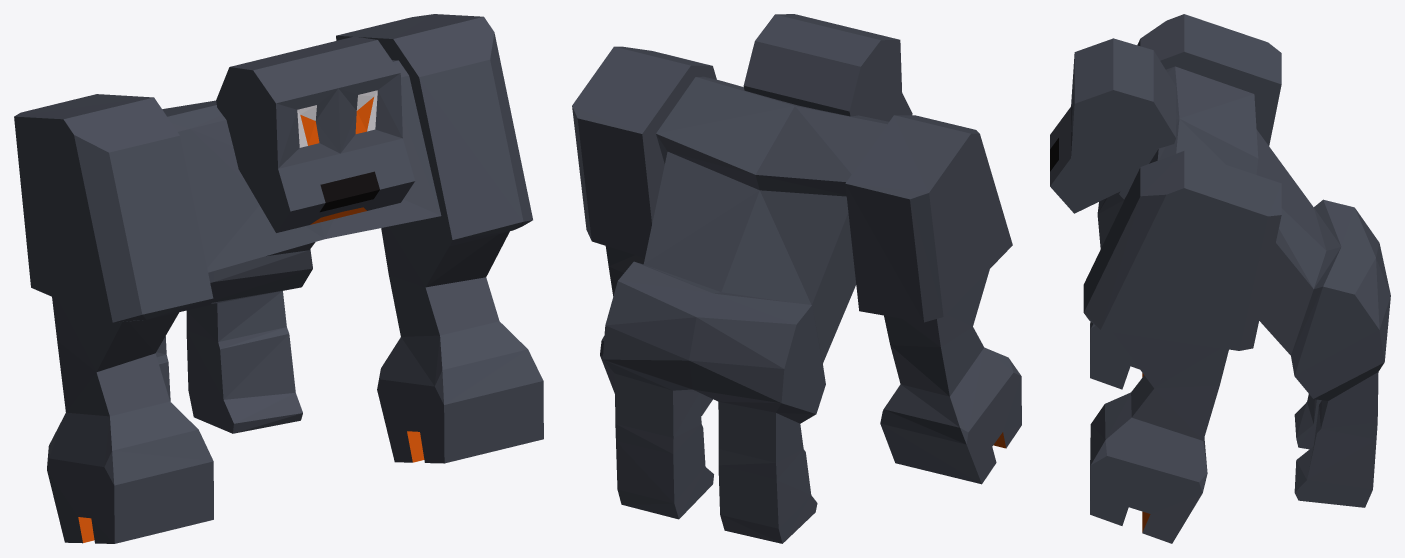
File: kong_000016.obj
3 views of the same model, side by side, from view 1: azimuth 30°, elevation 25°; view 2: azimuth 150°, elevation 25°; view 3: azimuth 270°, elevation 25° (orthographic). The views are drawn at different scales.
Visible parts, largest first — view 1: Cube; view 2: Cube; view 3: Cube.
Boxes of the visible parts, x1,y1,x2,y2 form: Cube: (14,14,543,543); Cube: (572,14,1021,543); Cube: (1050,14,1390,543).
Bounding box in the file's own units: 5.84 × 6.17 × 4.71.
Materials: 1 (1 with a texture image).
